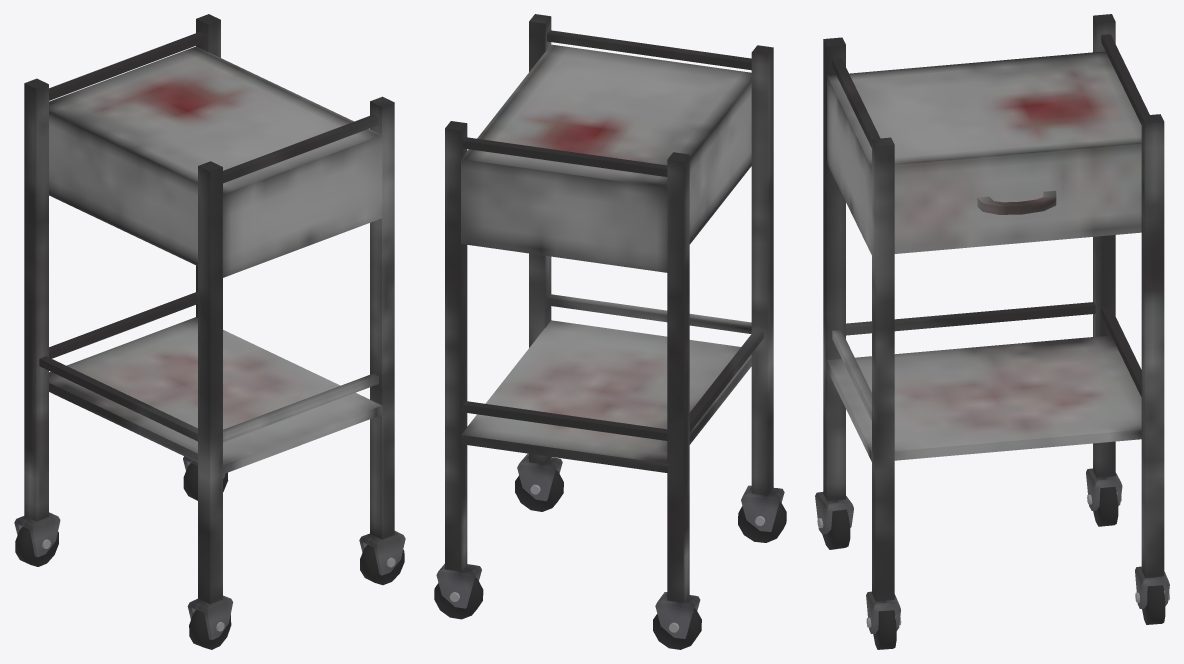
Rendered from surgical_trolley.7b6c8a824d.glb.
3 views of the same model, side by side, from view 1: azimuth 30°, elevation 25°; view 2: azimuth 150°, elevation 25°; view 3: azimuth 270°, elevation 25° (orthographic). The views are drawn at different scales.
Visible parts, largest first — view 1: surgical_trolley; view 2: surgical_trolley; view 3: surgical_trolley.
Boxes of the visible parts, box(x1,y1,x2,y2) form: surgical_trolley: box(14, 14, 405, 649); surgical_trolley: box(434, 14, 786, 649); surgical_trolley: box(815, 14, 1169, 649).
Size of the model in its own units: 0.546 by 0.8891 by 0.5668.
1 material, 1 textured.
